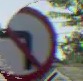Don't turn left: (0, 6, 56, 80)
